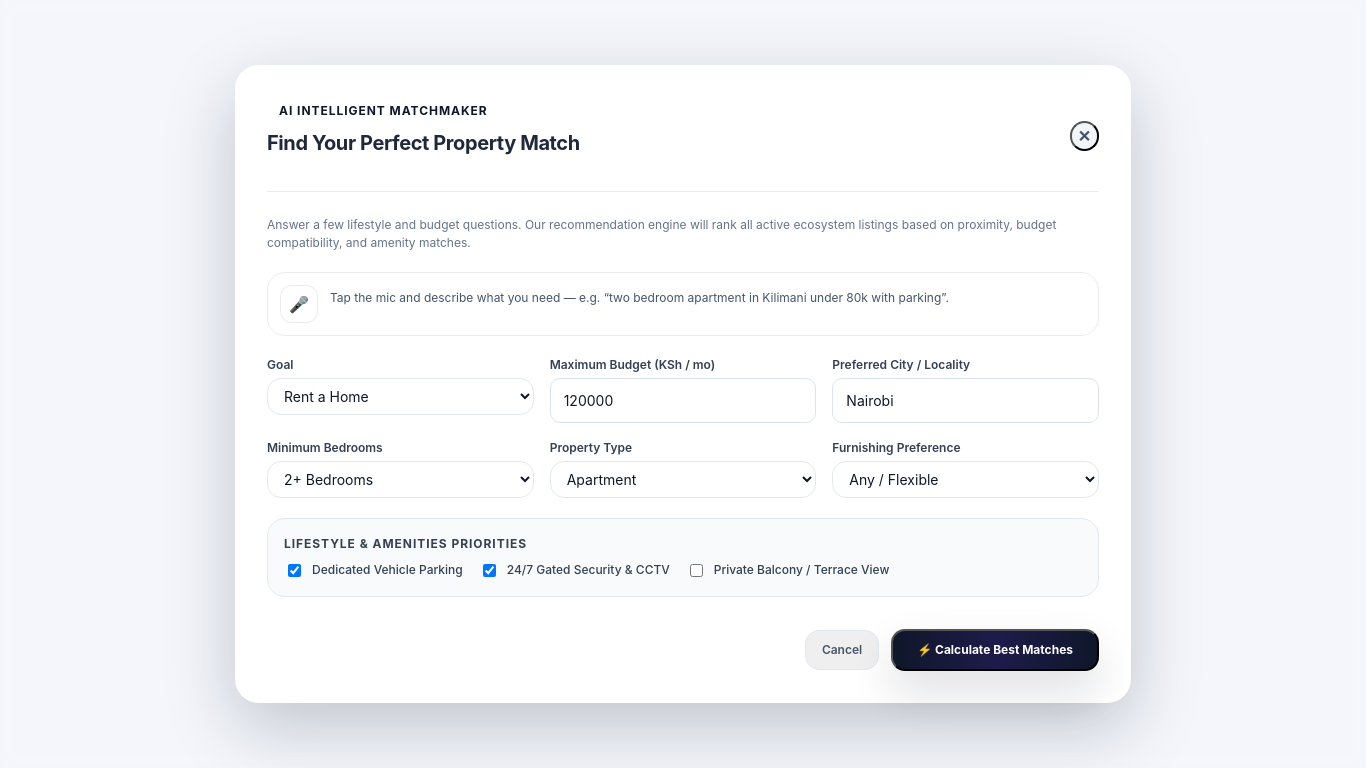
Test: SmartMatchModal voice assistant › surfaces microphone errors in the assistant panel
Click the button named "describe your ideal property by voice": (299, 304) x1=280 y1=285 x2=318 y2=323
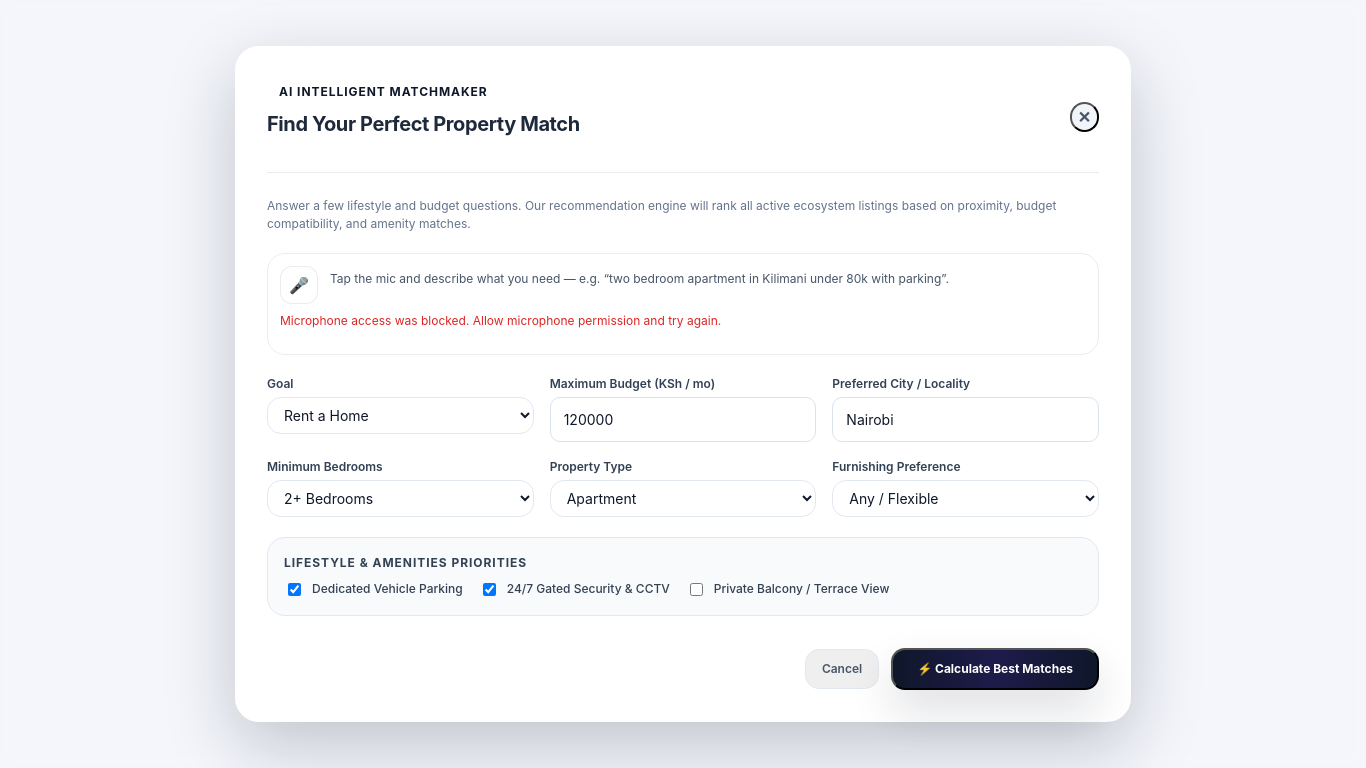
Result: the message reads "Microphone access was blocked. Allow microphone permission and try again." at x1=280 y1=313 x2=721 y2=328
